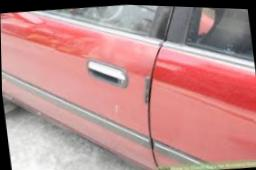Door: (85, 80, 142, 133)
